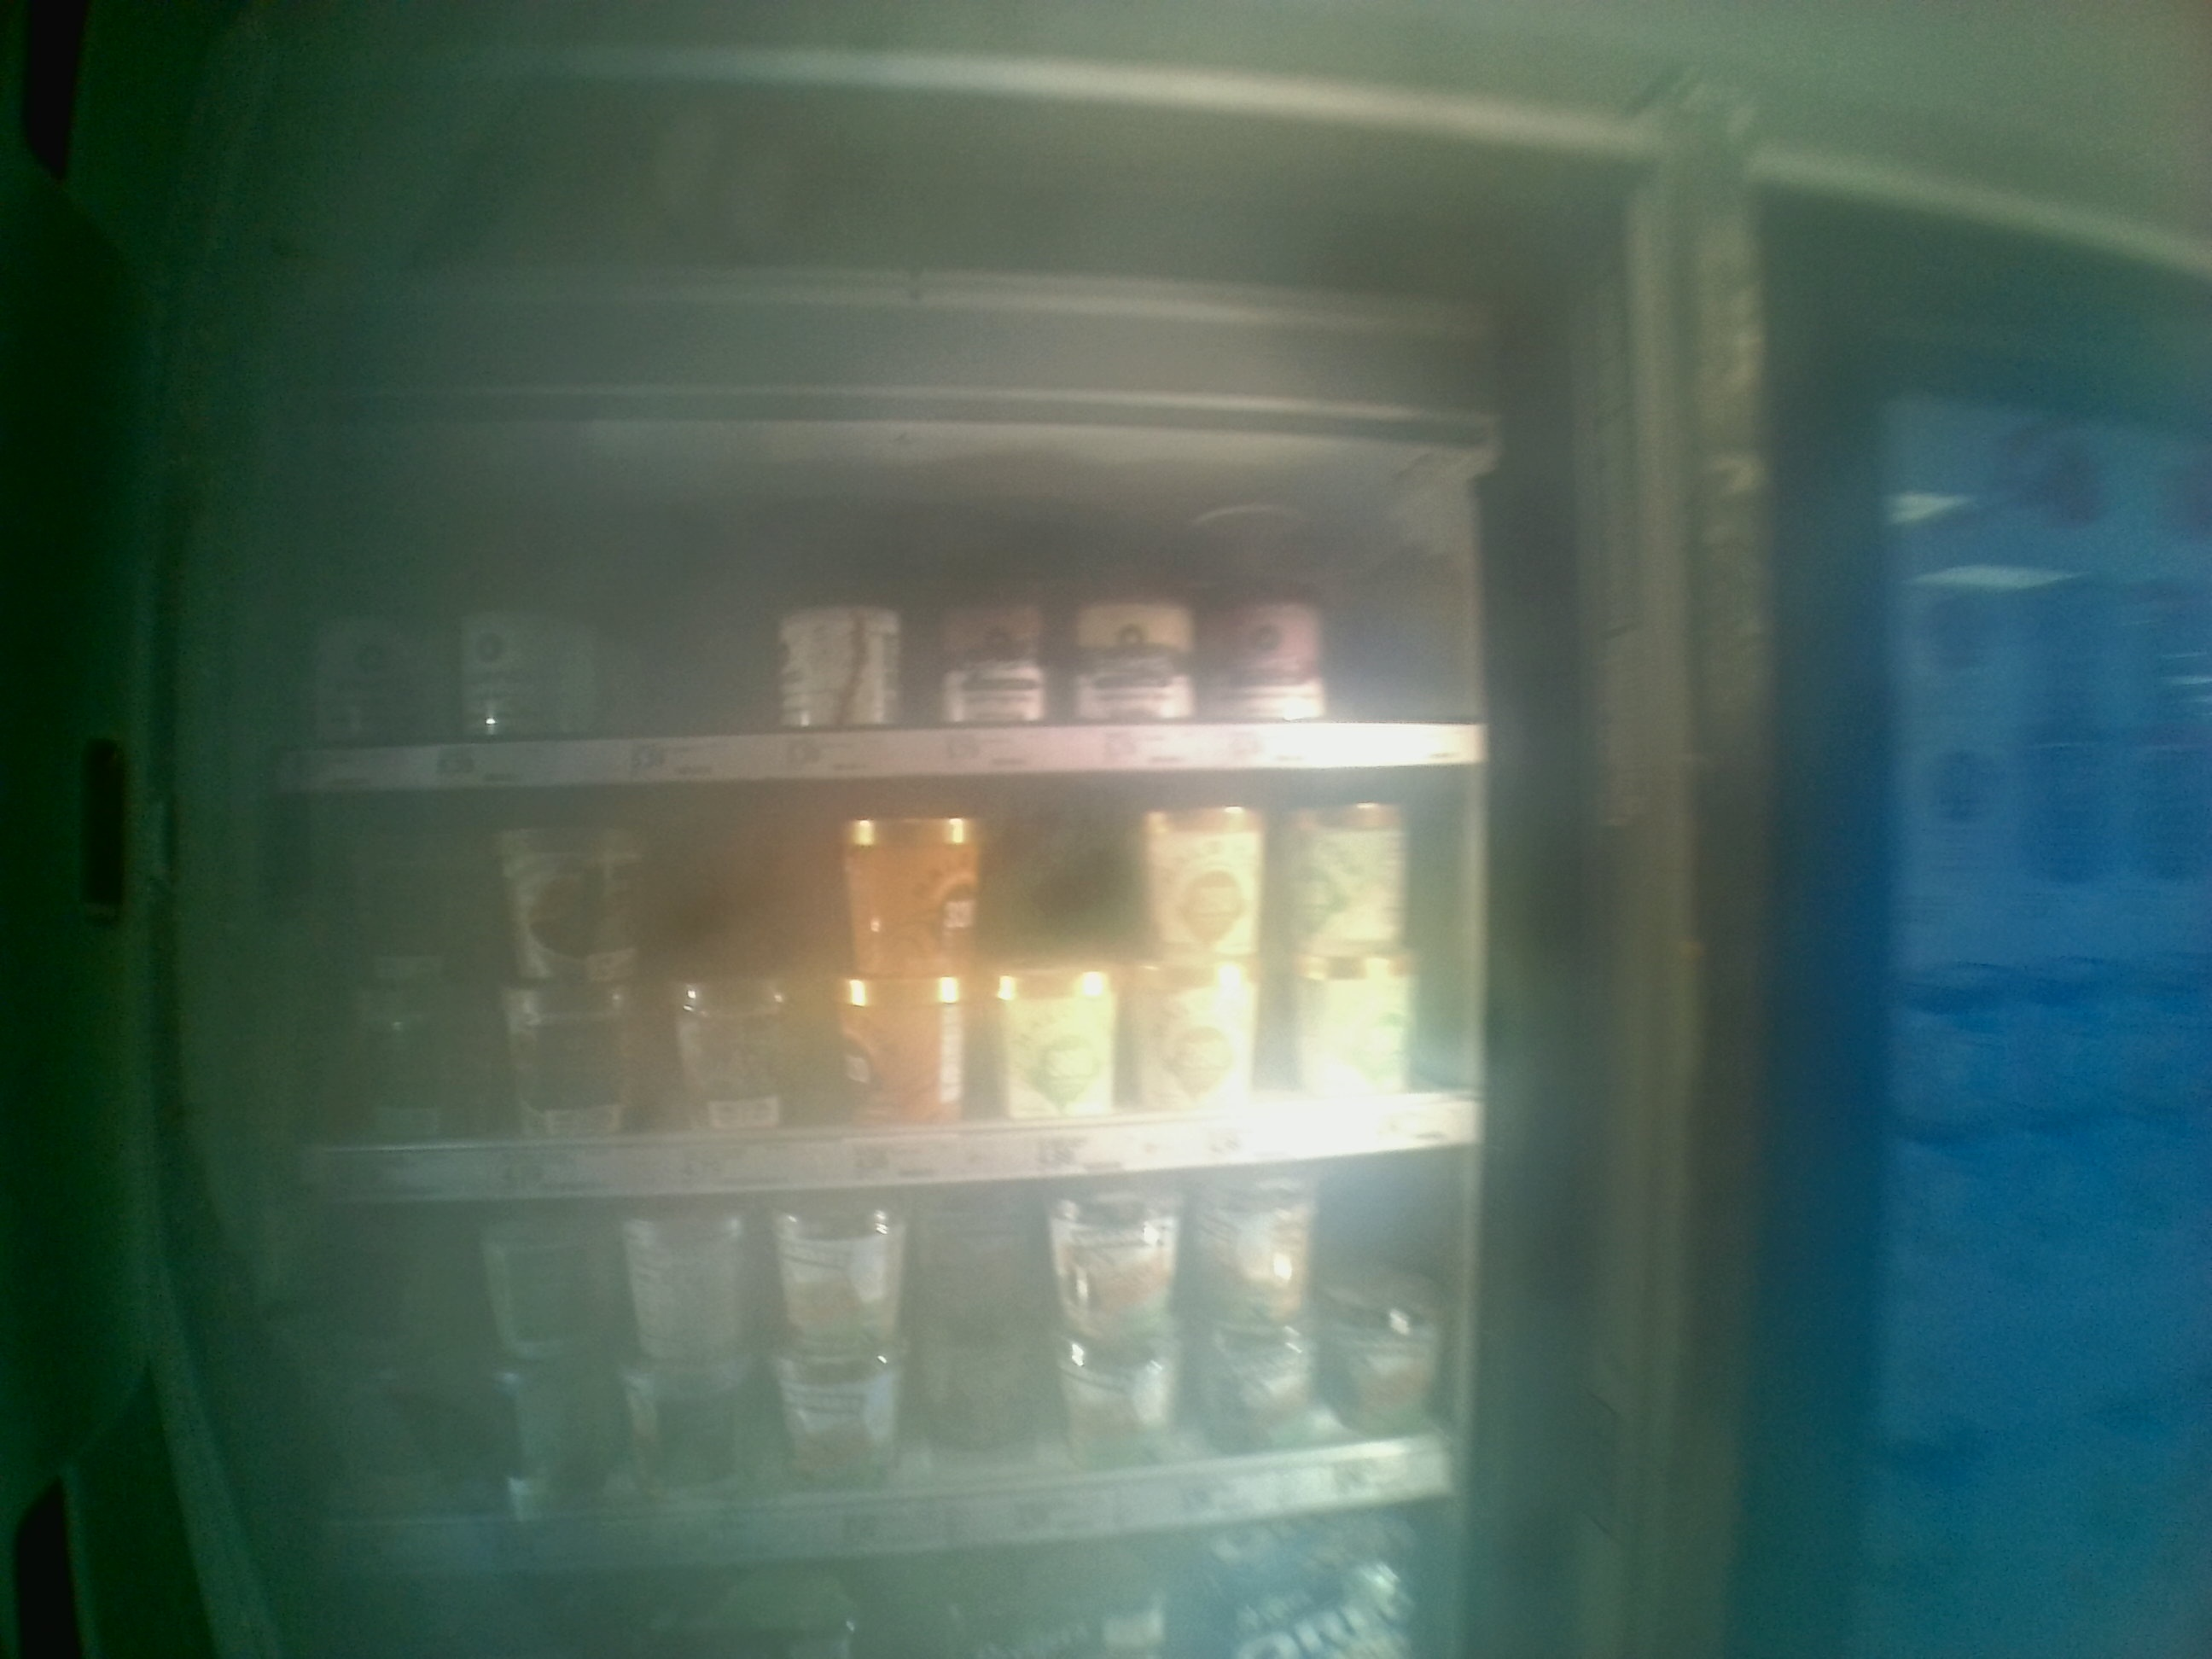shelf: (251, 753, 1496, 1201), (254, 443, 1491, 802)
